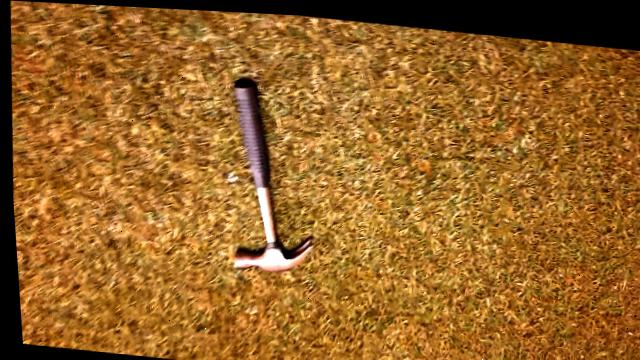hammer: (194, 66, 325, 279)
